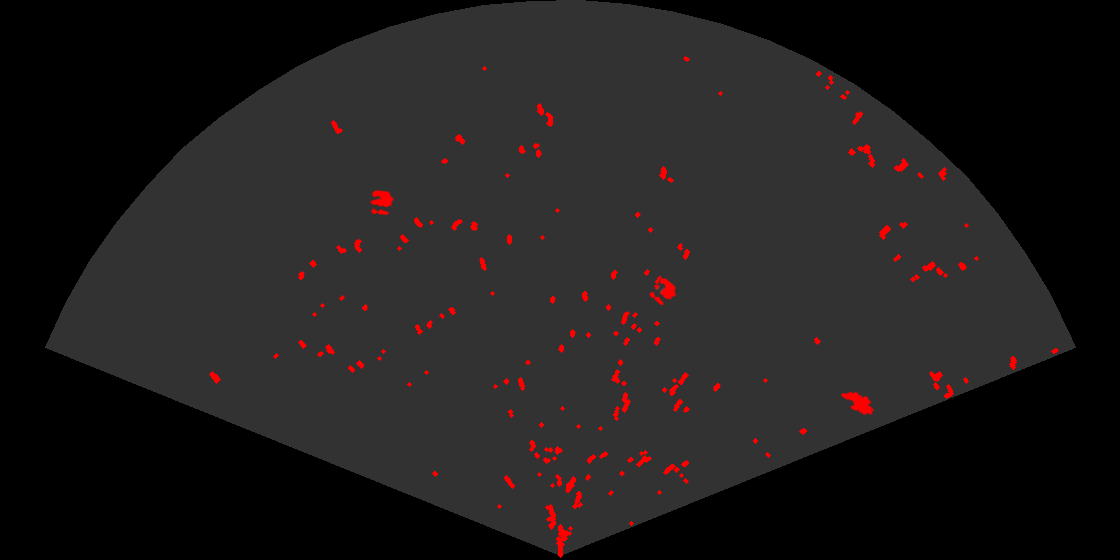AUV: (839, 390, 876, 417)
ball: (648, 277, 678, 307), (369, 189, 395, 217)
